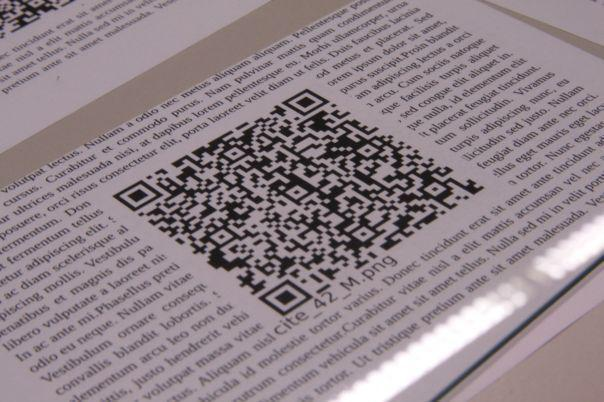qr_code: (113, 89, 484, 316)
